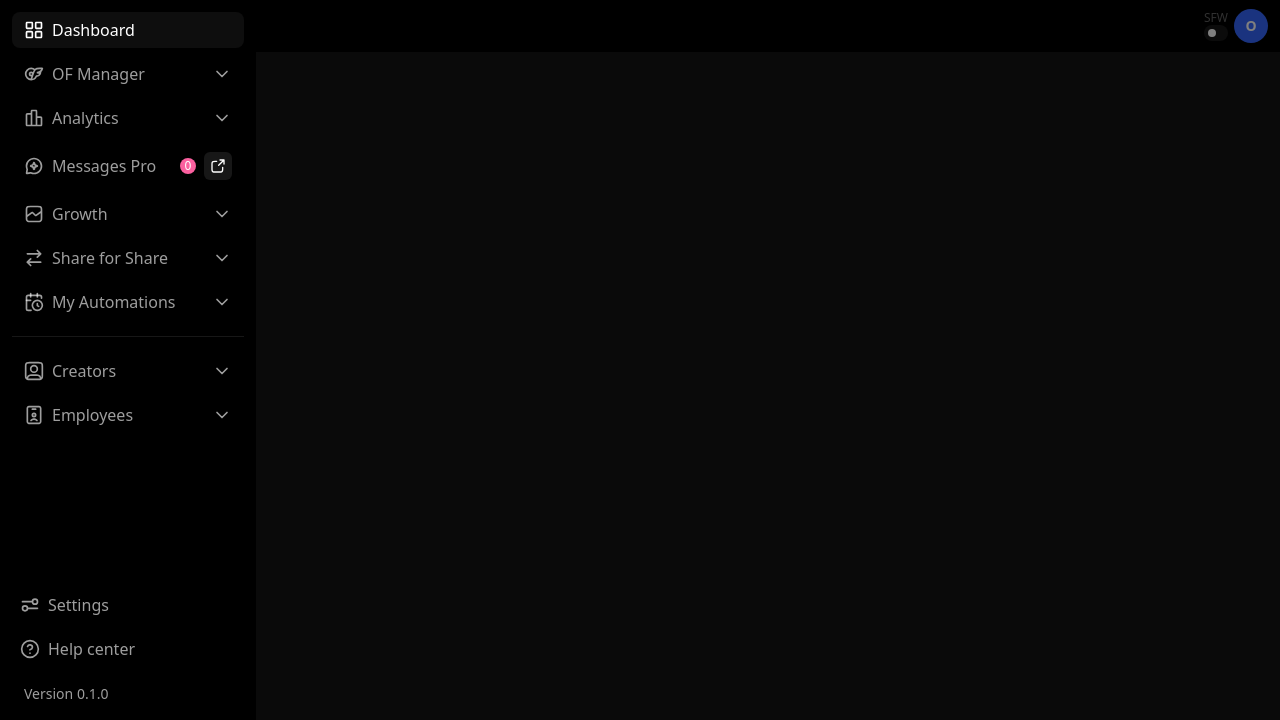
Scenario: AppShell drawer below lg › closes when the route changes
Step 1. Click the button named "Toggle sidebar" → (28, 26), box [12,12,44,40]
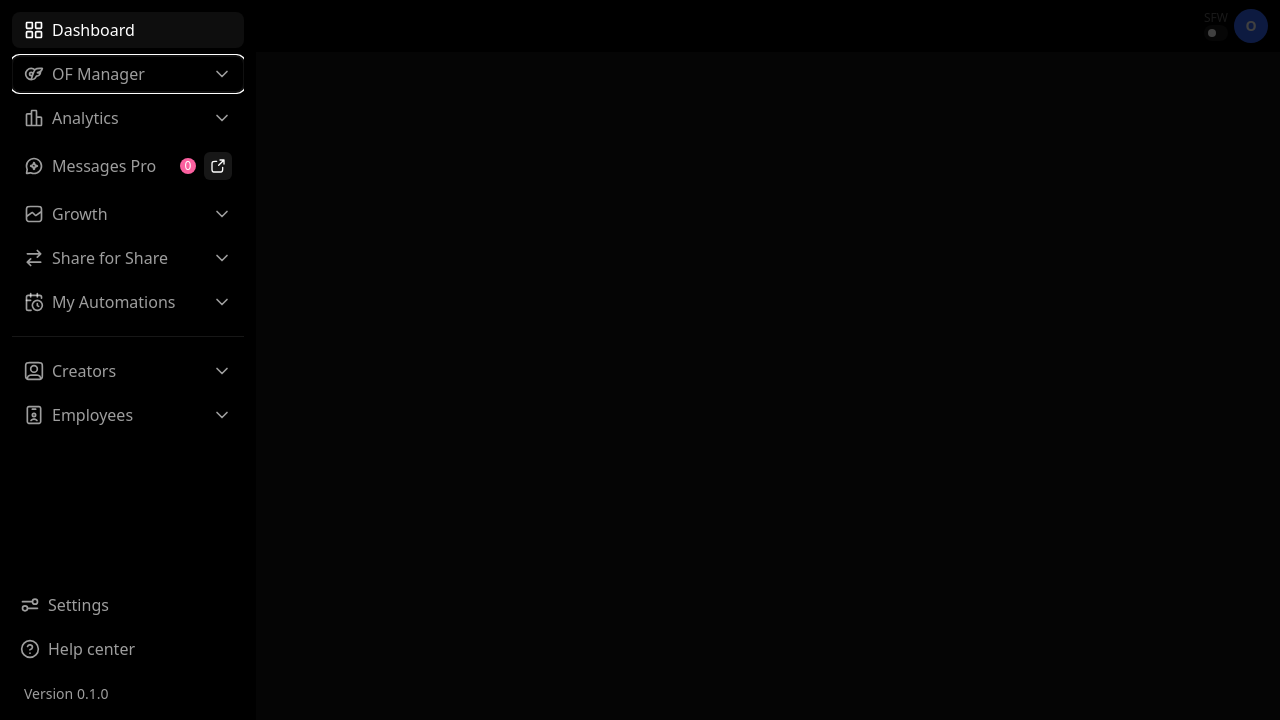
expect the dialog named "Menu" is shown: met, box [0,0,256,719]
